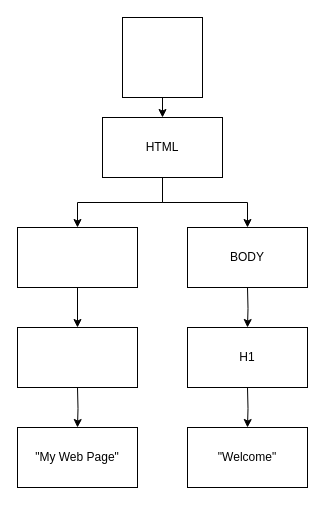
This 325x505 diagram has some shape labels left out. Here are the shapes that lost their labels. From the top down, the centre of each, then its label:
the point at 162,57: Document
the point at 77,257: HEAD
the point at 77,357: TITLE
